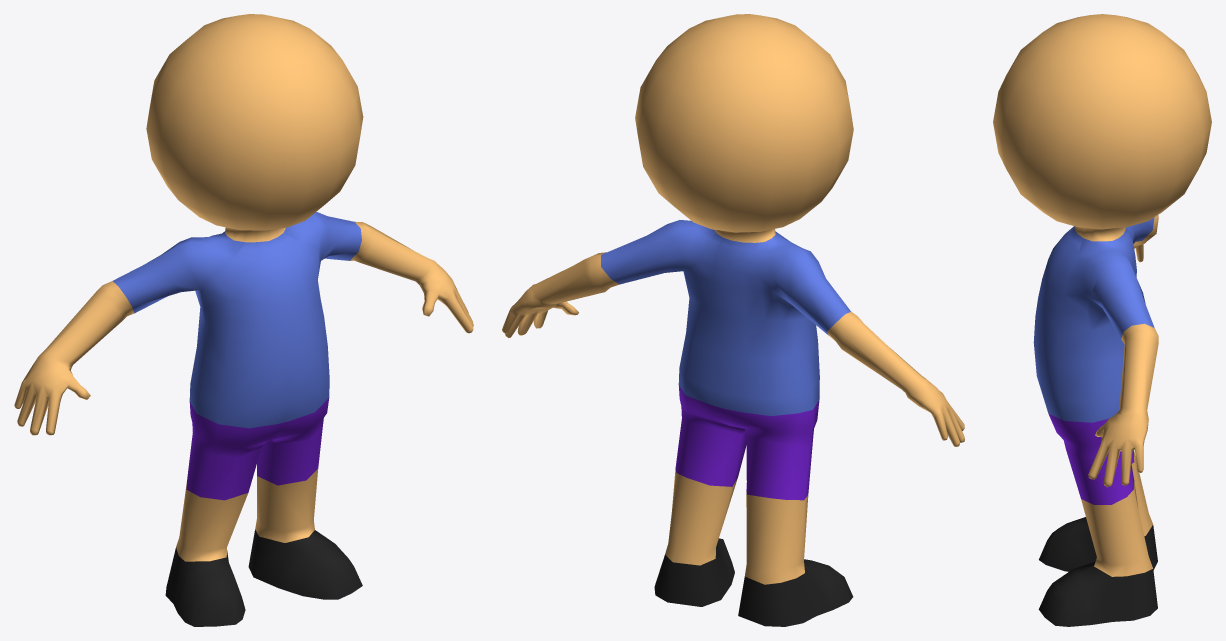
Rendered from CubeSurfer.fbx.
3 views of the same model, side by side, from view 1: azimuth 30°, elevation 25°; view 2: azimuth 150°, elevation 25°; view 3: azimuth 270°, elevation 25° (orthographic).
Visible parts, largest first — view 1: CH; view 2: CH; view 3: CH.
Part boxes in pixels (bbox=[...]): CH: bbox=[14, 14, 473, 626]; CH: bbox=[502, 14, 964, 626]; CH: bbox=[993, 14, 1211, 626].
Size of the model in its own units: 73.1 by 87.84 by 31.02.
